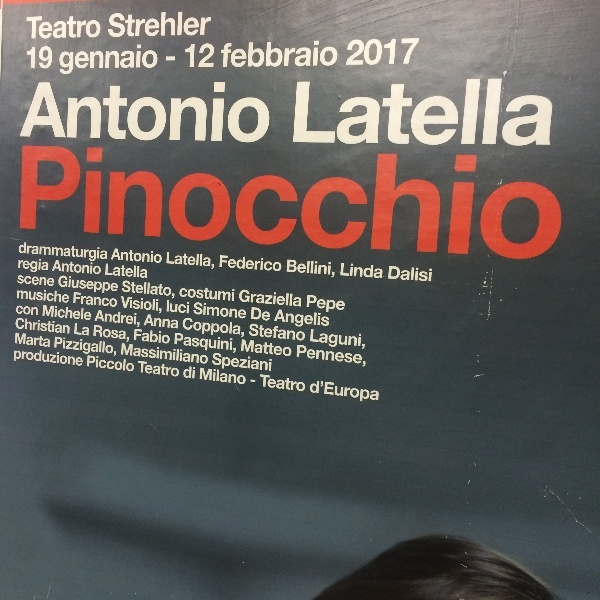text: (33, 143, 48, 262), (49, 143, 64, 262), (65, 143, 80, 262), (81, 143, 96, 262), (97, 143, 112, 262), (113, 143, 128, 262), (129, 143, 144, 262), (145, 143, 160, 262), (161, 143, 176, 262), (177, 143, 192, 262), (193, 143, 208, 262), (209, 143, 224, 262), (225, 143, 240, 262), (241, 143, 256, 262), (257, 143, 272, 262), (273, 143, 288, 262), (289, 143, 304, 262), (305, 143, 320, 262), (321, 143, 336, 262), (337, 143, 352, 262), (353, 143, 368, 262), (369, 143, 384, 262), (385, 143, 400, 262), (401, 143, 416, 262), (417, 143, 432, 262), (433, 143, 448, 262), (449, 143, 464, 262), (465, 143, 480, 262), (481, 143, 496, 262), (497, 143, 512, 262), (513, 143, 528, 262), (529, 143, 544, 262), (545, 143, 560, 262), (21, 143, 32, 262), (257, 79, 273, 148), (305, 80, 320, 149), (321, 80, 336, 149), (337, 80, 352, 149), (353, 80, 368, 149), (369, 80, 384, 149), (385, 80, 400, 149), (401, 80, 416, 149), (417, 80, 432, 149), (433, 80, 448, 149), (449, 80, 464, 149), (465, 80, 480, 149), (481, 80, 496, 149), (497, 80, 512, 149), (513, 80, 528, 149), (529, 80, 544, 149), (49, 79, 64, 148), (65, 79, 80, 148), (81, 79, 96, 148), (97, 79, 112, 148), (113, 79, 128, 148), (129, 79, 144, 148), (145, 79, 160, 148), (161, 79, 176, 148), (177, 79, 192, 148), (193, 79, 208, 148), (209, 79, 224, 148), (225, 79, 240, 148), (241, 79, 256, 148), (545, 80, 557, 149), (38, 79, 48, 148), (296, 80, 304, 149), (65, 45, 80, 75), (81, 45, 96, 75), (97, 45, 112, 75), (113, 45, 128, 75), (129, 45, 144, 75), (225, 41, 240, 68), (241, 41, 256, 68), (257, 41, 272, 68), (273, 41, 288, 68), (289, 41, 304, 68), (305, 41, 320, 68), (321, 41, 336, 68), (353, 39, 368, 65), (369, 39, 384, 65), (385, 39, 400, 65), (401, 39, 416, 65), (193, 44, 208, 70), (145, 45, 158, 75), (113, 12, 128, 38), (129, 12, 144, 38), (145, 12, 160, 38), (161, 12, 176, 38), (177, 12, 192, 38), (193, 12, 208, 38), (321, 380, 336, 405), (337, 380, 352, 405), (353, 380, 368, 405), (33, 47, 48, 71), (33, 16, 48, 40), (49, 16, 64, 40), (65, 16, 80, 40), (81, 16, 96, 40), (561, 143, 564, 262), (305, 345, 320, 368), (321, 345, 336, 368), (337, 345, 352, 368), (65, 336, 80, 359), (81, 336, 96, 359), (97, 336, 112, 359), (33, 241, 48, 263), (49, 241, 64, 263), (65, 241, 80, 263), (81, 241, 96, 263), (193, 317, 208, 339), (209, 317, 224, 339), (225, 317, 240, 339), (129, 279, 144, 300), (145, 279, 160, 300), (289, 309, 304, 330), (305, 309, 320, 330), (321, 329, 336, 350), (337, 329, 352, 350), (177, 333, 192, 354), (193, 333, 208, 354), (209, 333, 224, 354), (129, 344, 144, 365), (145, 344, 160, 365), (161, 344, 176, 365), (177, 344, 192, 365), (193, 344, 208, 365), (289, 374, 305, 393), (65, 275, 80, 295), (81, 275, 96, 295), (97, 275, 112, 295), (321, 295, 336, 315), (209, 300, 224, 320), (225, 300, 240, 320), (257, 322, 272, 342), (273, 322, 288, 342), (289, 322, 304, 342), (225, 352, 240, 372), (241, 352, 256, 372), (257, 352, 272, 372), (177, 251, 192, 271), (193, 251, 208, 271), (289, 259, 304, 279), (305, 259, 320, 279), (353, 345, 366, 368), (161, 279, 175, 300), (113, 325, 129, 343), (19, 241, 32, 263), (241, 288, 256, 307), (257, 288, 272, 307), (273, 288, 288, 307), (273, 374, 288, 393), (321, 259, 335, 279), (417, 265, 433, 282), (257, 339, 272, 357), (273, 339, 288, 357), (97, 355, 112, 373), (113, 355, 128, 373), (97, 325, 112, 343), (113, 310, 128, 328), (17, 317, 32, 335), (33, 317, 48, 335), (49, 317, 64, 335), (225, 255, 240, 273), (241, 255, 256, 273), (257, 255, 272, 273), (307, 295, 320, 315), (195, 300, 208, 320), (145, 361, 160, 378), (161, 361, 176, 378), (209, 368, 224, 385), (225, 368, 240, 385), (17, 350, 32, 367), (33, 350, 48, 367), (49, 350, 64, 367), (65, 350, 80, 367), (129, 297, 144, 314), (145, 297, 160, 314), (145, 329, 160, 346), (353, 262, 368, 279), (401, 265, 416, 282), (353, 329, 365, 350), (242, 339, 256, 357), (225, 333, 237, 354), (369, 380, 379, 405), (289, 288, 302, 307), (97, 241, 108, 263), (65, 260, 80, 276), (81, 260, 96, 276), (113, 263, 128, 279), (129, 263, 144, 279), (17, 332, 32, 348), (33, 332, 48, 348), (49, 305, 64, 321), (65, 305, 80, 321), (81, 292, 96, 308), (97, 292, 112, 308), (161, 314, 176, 330), (129, 248, 144, 264), (145, 248, 160, 264), (369, 262, 383, 279), (99, 310, 112, 328), (260, 374, 272, 393), (311, 380, 320, 405), (17, 289, 32, 304), (33, 289, 48, 304), (49, 289, 64, 304), (33, 259, 49, 273), (213, 352, 224, 372), (193, 287, 208, 301), (209, 287, 224, 301), (257, 307, 271, 322), (115, 248, 128, 264), (55, 336, 64, 359), (129, 310, 140, 328), (183, 317, 192, 339), (148, 314, 160, 330), (279, 309, 288, 330), (321, 309, 330, 330), (311, 329, 320, 350), (341, 262, 352, 279), (389, 265, 400, 282), (185, 44, 192, 70), (19, 259, 32, 273), (33, 275, 48, 287), (177, 300, 189, 315), (167, 251, 176, 271), (81, 305, 92, 321), (18, 275, 32, 287), (180, 287, 192, 301), (17, 305, 32, 316), (273, 255, 282, 273), (337, 295, 345, 315), (135, 329, 144, 346), (161, 329, 170, 346), (26, 16, 32, 40), (88, 355, 96, 373), (225, 287, 235, 301), (298, 345, 304, 368), (200, 368, 208, 385), (167, 300, 176, 315), (209, 44, 214, 70), (56, 260, 64, 276), (122, 344, 128, 365), (60, 45, 64, 75), (27, 47, 32, 71), (250, 322, 256, 342), (209, 251, 215, 271), (121, 297, 128, 314), (129, 355, 135, 373), (123, 279, 128, 300), (348, 39, 352, 65), (184, 367, 192, 380), (81, 324, 89, 337), (138, 361, 144, 378), (59, 275, 64, 295), (113, 275, 118, 295), (241, 300, 246, 320), (49, 47, 53, 71), (97, 16, 101, 40), (106, 263, 112, 279), (74, 292, 80, 308), (113, 336, 117, 359), (65, 317, 70, 335), (241, 317, 245, 339), (241, 368, 246, 385), (43, 305, 48, 321), (417, 39, 420, 65), (109, 12, 112, 38), (209, 12, 212, 38), (251, 307, 256, 322), (65, 289, 70, 304), (49, 275, 55, 287), (220, 255, 224, 273), (166, 55, 176, 62), (75, 324, 80, 337), (97, 260, 101, 276), (113, 292, 117, 308), (33, 305, 38, 316), (222, 41, 224, 68), (289, 339, 292, 357), (145, 263, 148, 279), (94, 325, 96, 343), (177, 361, 179, 378), (81, 350, 83, 367), (337, 41, 338, 68), (193, 367, 195, 380), (175, 333, 176, 354), (305, 322, 306, 342), (251, 379, 256, 383), (15, 350, 16, 367), (161, 297, 162, 314), (49, 332, 50, 348), (177, 314, 178, 330), (161, 248, 162, 264)
